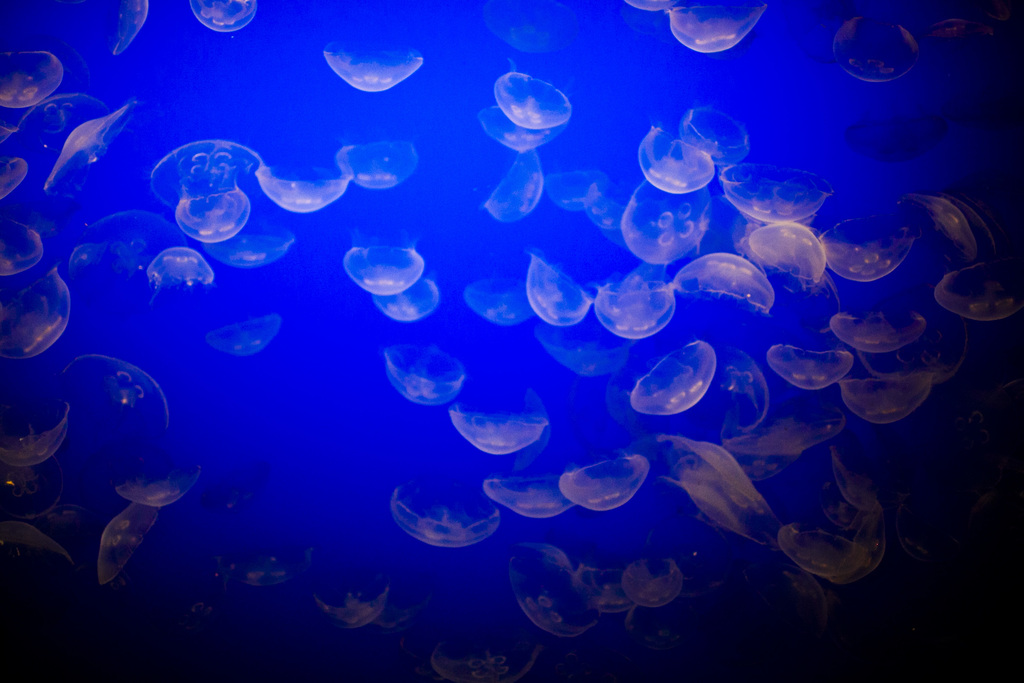Jellyfish: (0, 0, 1023, 682), (343, 234, 422, 310)
